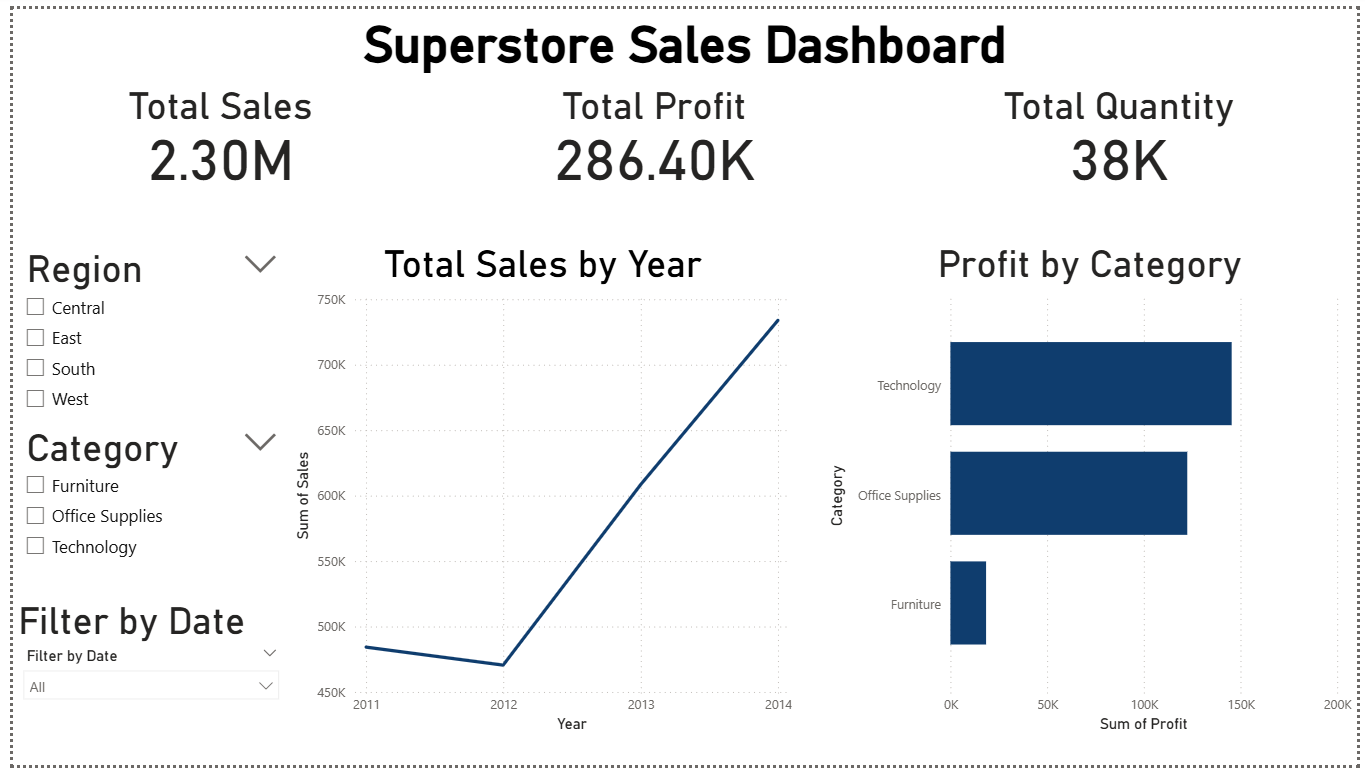

What the dashboard file says about the page in this screenshot:
{"tool":"powerbi","page":{"name":"Page 1","canvas":[1280,720],"ordinal":0},"visuals":[{"type":"card","title":"Total Quantity","fields":{"Values":["Sum(Superstore_sales.Quantity)"]},"box":[825,71.7,455,111.7],"z":0},{"type":"card","title":"Total Profit","fields":{"Values":["Sum(Superstore_sales.Profit)"]},"box":[395,71.7,430,111.7],"z":1000},{"type":"card","title":"Total Sales","fields":{"Values":["Sum(Superstore_sales.Sales)"]},"box":[0,71.7,395,111.7],"z":2000},{"type":"lineChart","title":"Total Sales by Year","fields":{"Y":["Sum(Superstore_sales.Sales)"],"Category":["Superstore_sales.Order Date.Variation.Date Hierarchy.Year"]},"box":[263.3,221.7,483.3,471.7],"z":3000},{"type":"clusteredBarChart","title":"Profit by Category","fields":{"Category":["Superstore_sales.Category"],"Y":["Sum(Superstore_sales.Profit)"]},"box":[771.7,221.7,508.3,471.7],"z":3001},{"type":"slicer","fields":{"Values":["Superstore_sales.Region"]},"box":[0,221.7,263.3,170],"z":3002},{"type":"slicer","fields":{"Values":["Superstore_sales.Category"]},"box":[0,391.7,263.3,170],"z":3003},{"type":"slicer","title":"Filter by Date","fields":{"Values":["Superstore_sales.Order Date"]},"box":[0,561.7,263.3,158.3],"z":3004},{"type":"textbox","box":[0,0,1280,71.7],"z":3005}]}

Visuals, with their boxes in screenshot pixels (x1, y1, x2, y2), scaled from the page's 1280x720 canvas onto the 1365x771 screenshot:
"Total Quantity" card: BBox(880, 77, 1364, 196)
"Total Profit" card: BBox(421, 77, 880, 196)
"Total Sales" card: BBox(0, 77, 421, 196)
"Total Sales by Year" lineChart: BBox(281, 237, 796, 743)
"Profit by Category" clusteredBarChart: BBox(823, 237, 1364, 743)
slicer - Superstore_sales.Region: BBox(0, 237, 281, 419)
slicer - Superstore_sales.Category: BBox(0, 419, 281, 601)
"Filter by Date" slicer: BBox(0, 601, 281, 770)
textbox: BBox(0, 0, 1364, 77)
